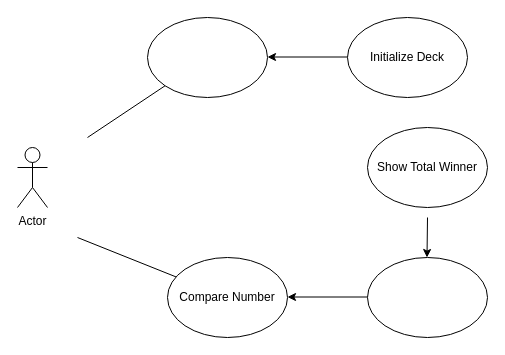
This 505x355 diagram has some shape labels left out. Each missing label, with the centre of its shape:
"(re)Start Game" goes at [207,57].
"Show Winner" goes at [427,297].
